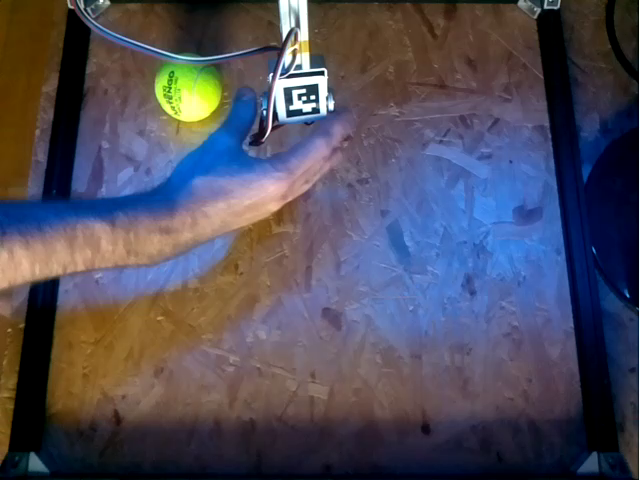tennis_ball: (154, 52, 222, 122)
